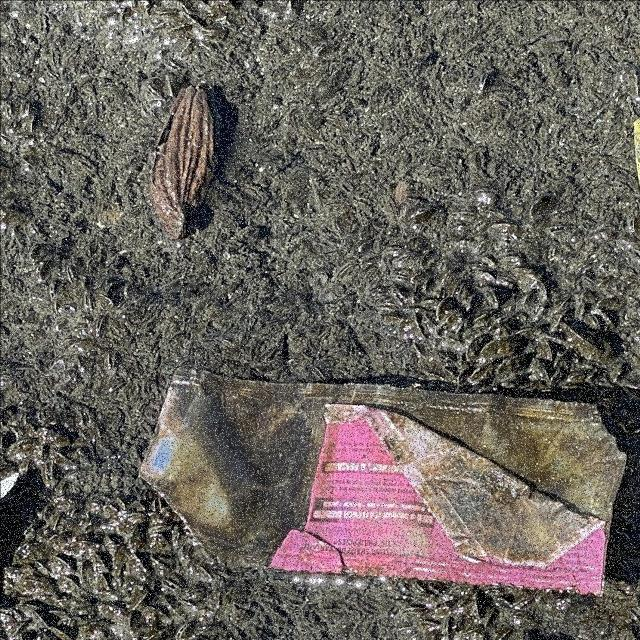plastic_waste: (136, 370, 626, 599)
